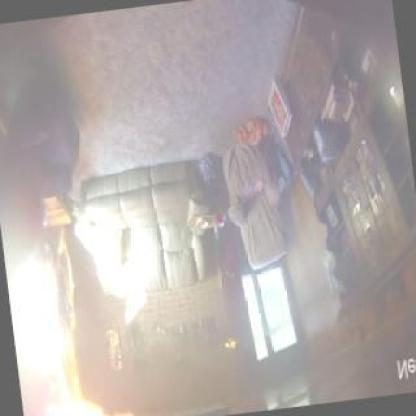Fire: (16, 225, 104, 416)
